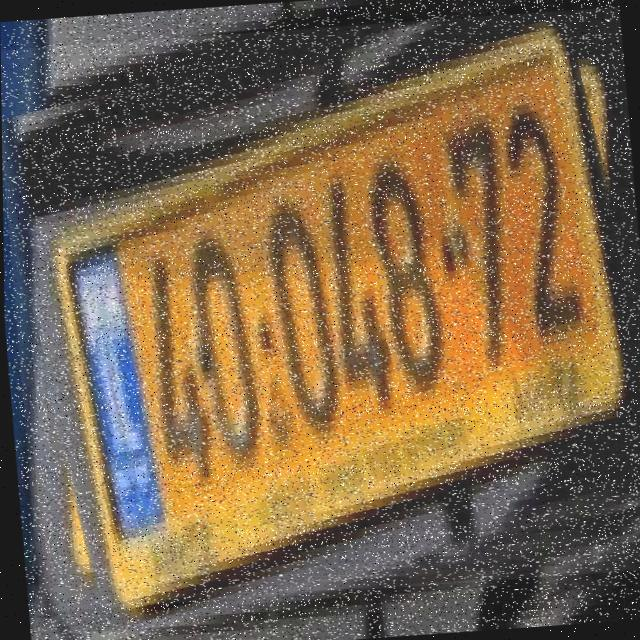LicensePlate: (0, 6, 640, 611)
